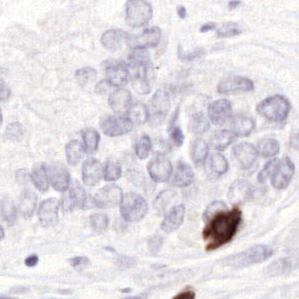Lymphocyte: (202, 207, 244, 252)
